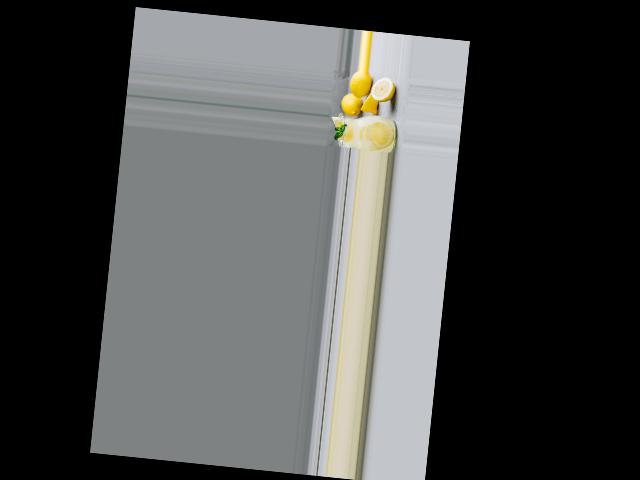lemon: (350, 71, 371, 102)
